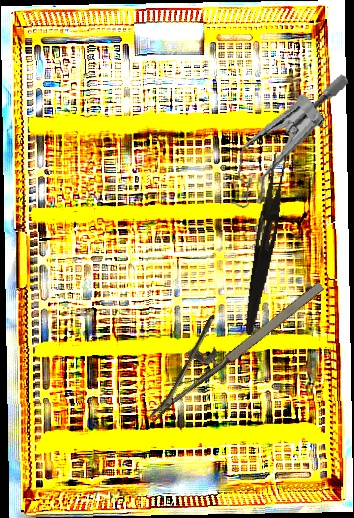Dressing Forceps: (242, 150, 288, 337)
Needle Holder: (121, 252, 329, 424)
Speculum: (224, 60, 352, 246)
